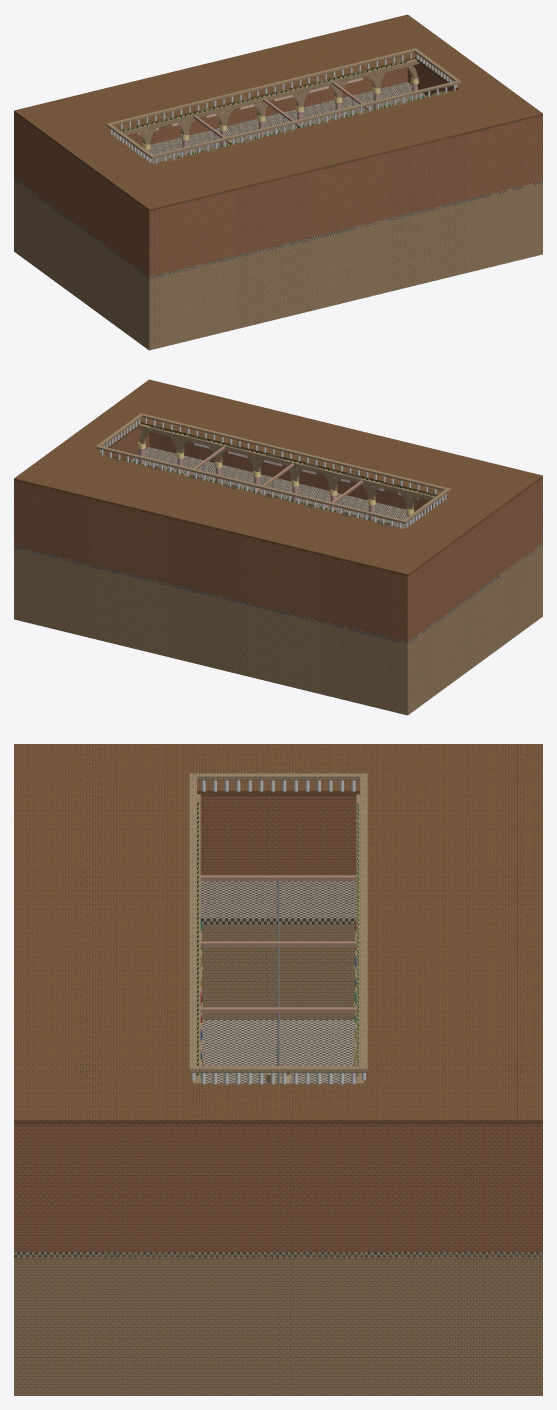
The model's file is sponza.glb.
The picture shows the model from 3 angles, top to bottom: view 1: azimuth 30°, elevation 25°; view 2: azimuth 150°, elevation 25°; view 3: azimuth 270°, elevation 25°; orthographic projection. The views are drawn at different scales.
Visible parts, largest first — view 1: AtriumRoot; view 2: AtriumRoot; view 3: AtriumRoot.
Part boxes in pixels (<box>): AtriumRoot: <box>14,14,542,350</box>; AtriumRoot: <box>14,379,542,715</box>; AtriumRoot: <box>14,744,542,1395</box>.
Bounding box in the file's own units: 3700 × 1338 × 2200.
Materials: 25 (16 with a texture image).
